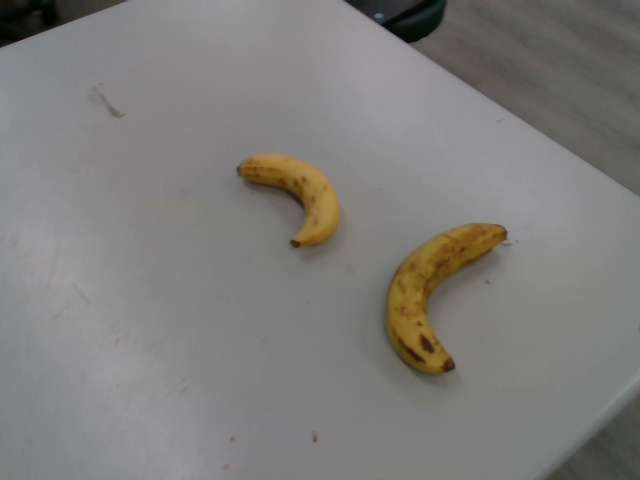banana: (382, 220, 505, 380), (234, 149, 343, 249)
